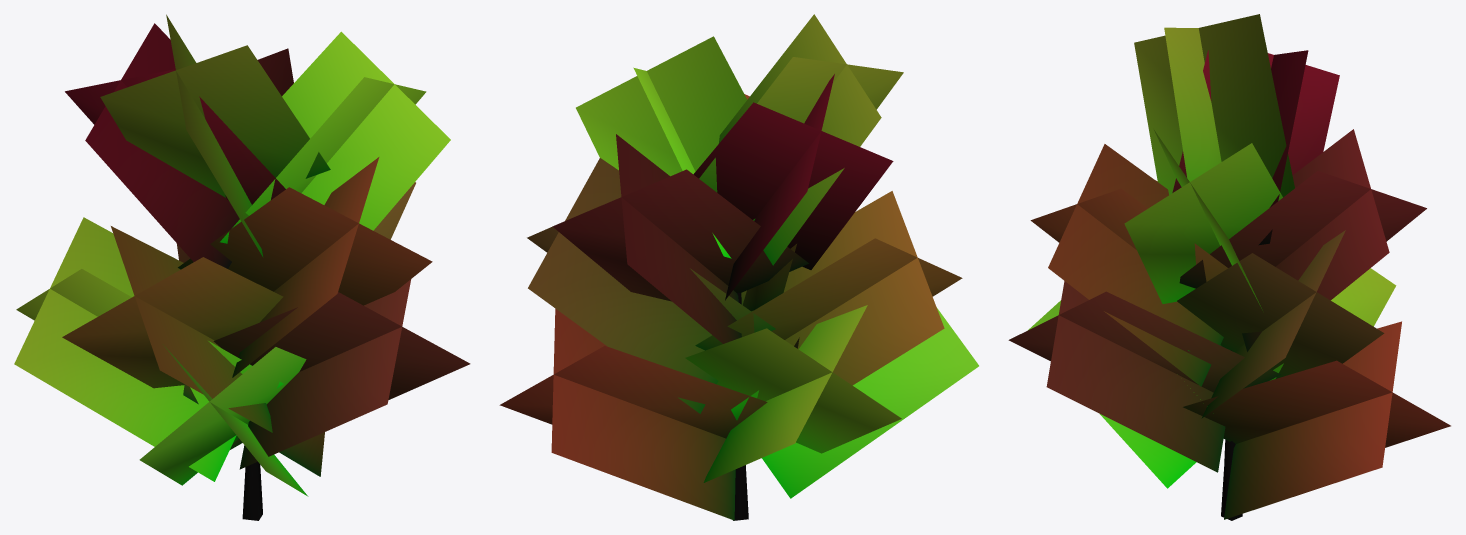
File: SuperTree_12.fbx
3 renders of one model, left to right at view 1: azimuth 30°, elevation 25°; view 2: azimuth 150°, elevation 25°; view 3: azimuth 270°, elevation 25°, orthographic. The views are drawn at different scales.
Parts seen in each view (by area): view 1: SuperTree_12; view 2: SuperTree_12; view 3: SuperTree_12.
Part boxes in pixels (bbox=[...]): SuperTree_12: bbox=[14, 14, 470, 520]; SuperTree_12: bbox=[499, 14, 978, 520]; SuperTree_12: bbox=[1008, 14, 1450, 520].
Bounding box in the file's own units: 483 × 591 × 505.
